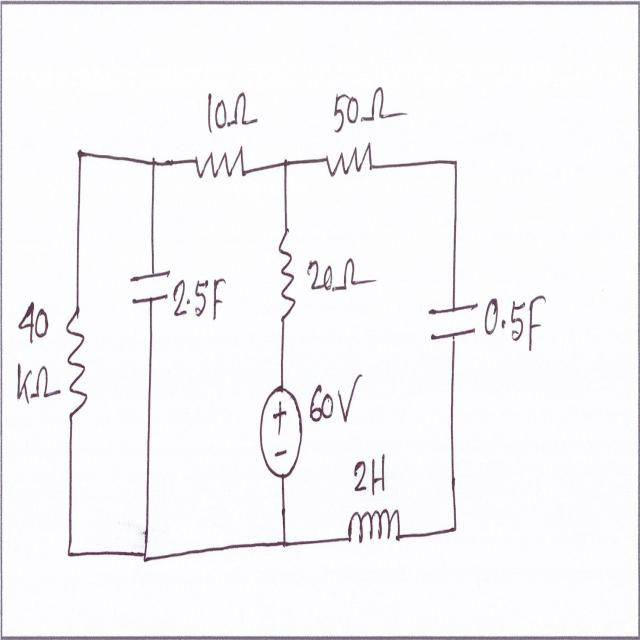capacitor: (424, 297, 482, 352), (126, 261, 173, 310)
inductor: (341, 500, 407, 552)
resistor: (63, 292, 90, 433), (320, 130, 377, 189), (274, 215, 300, 333), (188, 139, 250, 187)
voltage_source: (256, 376, 306, 484)
